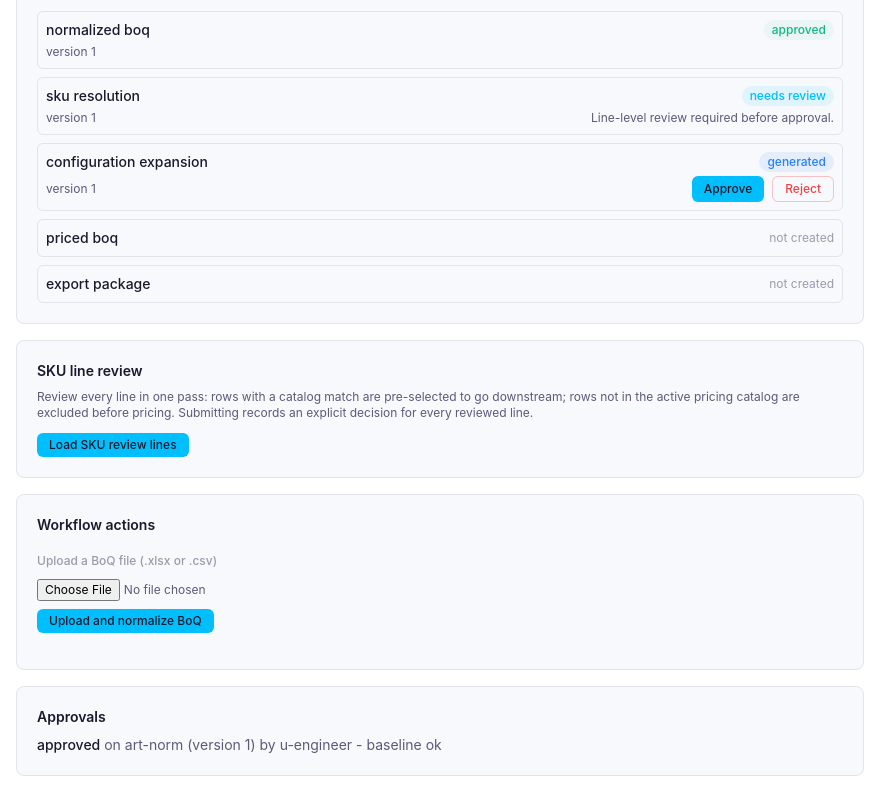
Scenario: ProjectQuickBomPage - upload and normalize › shows a workflow error and makes no POST when normalize is clicked with no file
(page scrolled)
Click the button with test id "workflow-upload-normalize": (125, 621) [37,609,214,633]
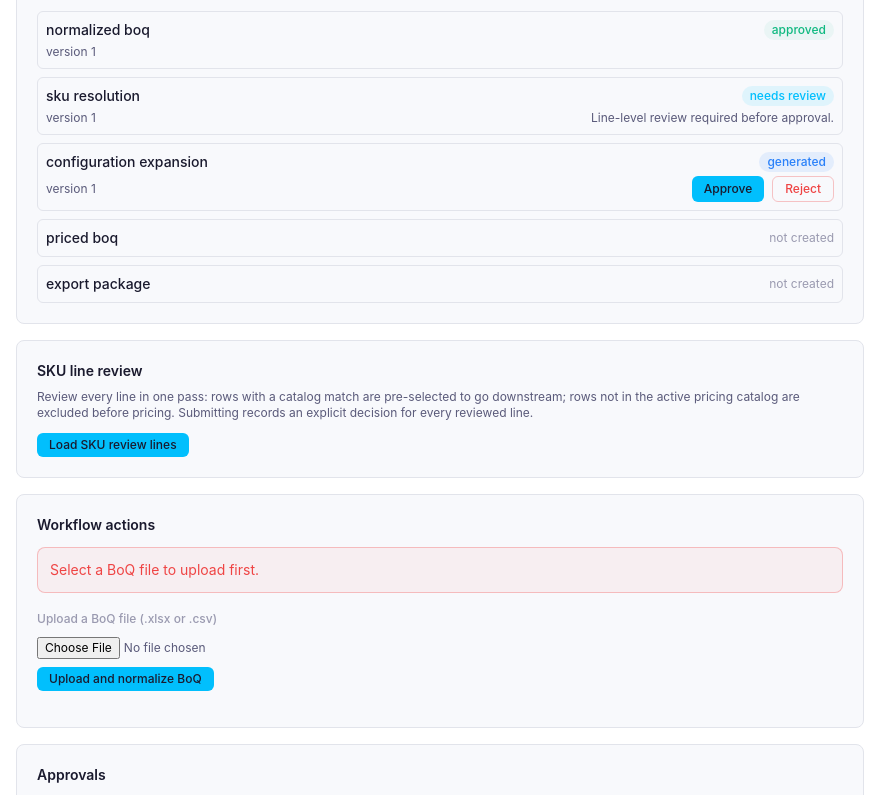
expect the text with test id "workflow-error" reads "Select a BoQ file to upload first.": met, box [50,561,259,578]
